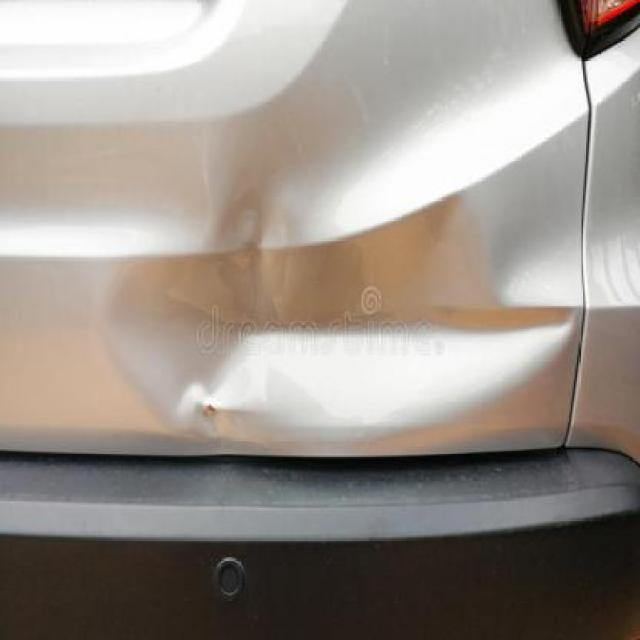dent: (103, 157, 579, 450)
